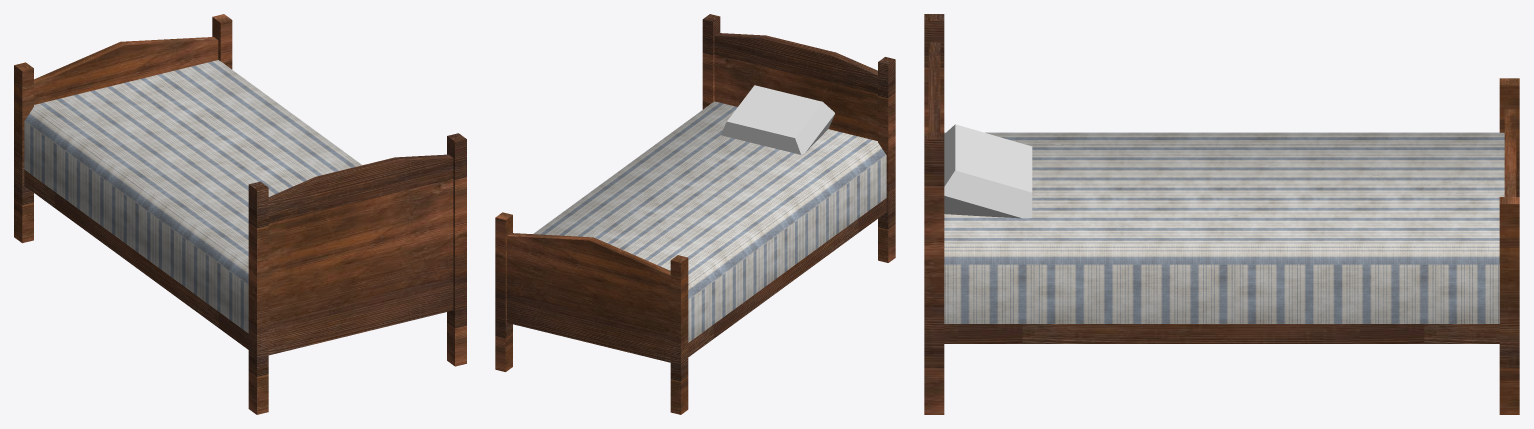
File: bed.fbx
The picture shows the model from 3 angles, left to right: view 1: azimuth 30°, elevation 25°; view 2: azimuth 150°, elevation 25°; view 3: azimuth 270°, elevation 25°; orthographic projection. The views are drawn at different scales.
Visible parts, largest first — view 1: Bed_02; view 2: Bed_02; view 3: Bed_02.
Part boxes in pixels (x1=…): Bed_02: x1=14, y1=14, x2=466, y2=414; Bed_02: x1=495, y1=14, x2=895, y2=414; Bed_02: x1=924, y1=14, x2=1519, y2=414.
Bounding box in the file's own units: 124 × 127 × 248.
